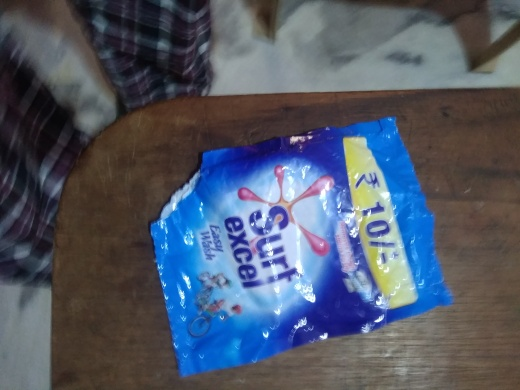surf: (135, 126, 473, 371)
